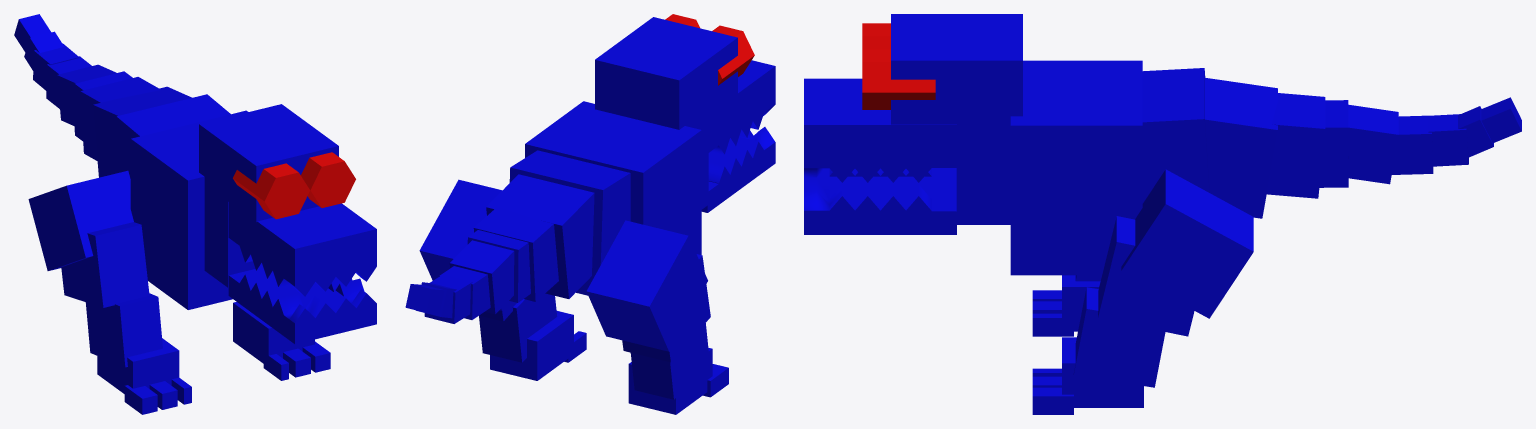
The model's file is monsterCharacter.fbx.
3 views of the same model, side by side, from view 1: azimuth 30°, elevation 25°; view 2: azimuth 150°, elevation 25°; view 3: azimuth 270°, elevation 25° (orthographic). The views are drawn at different scales.
Visible parts, largest first — view 1: dinosaur1; view 2: dinosaur1; view 3: dinosaur1.
Boxes of the visible parts, x1,y1,x2,y2 form: dinosaur1: (14, 14, 376, 414); dinosaur1: (405, 14, 775, 414); dinosaur1: (804, 14, 1521, 414).
Size of the model in its own units: 3.79 by 4.53 by 9.08.
